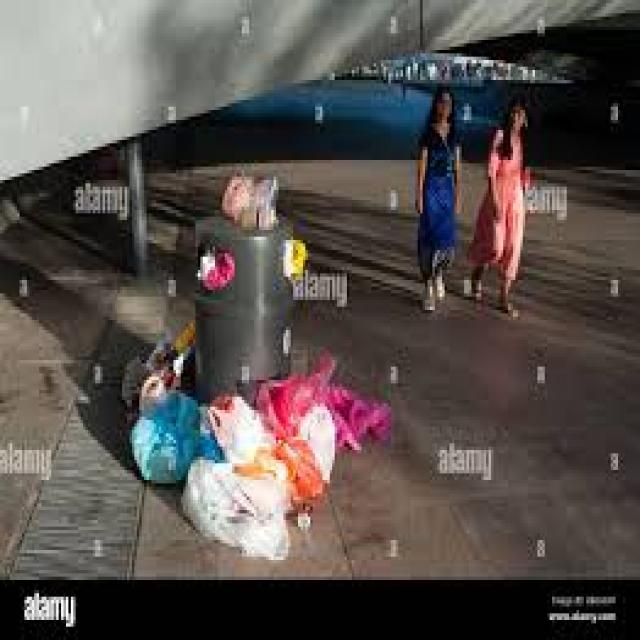bin_full: (201, 215, 288, 393)
normal_waste: (186, 444, 287, 554), (261, 380, 398, 452), (216, 390, 310, 470), (141, 401, 220, 486), (228, 177, 293, 251), (298, 397, 342, 478), (278, 434, 326, 504), (201, 244, 233, 294)
